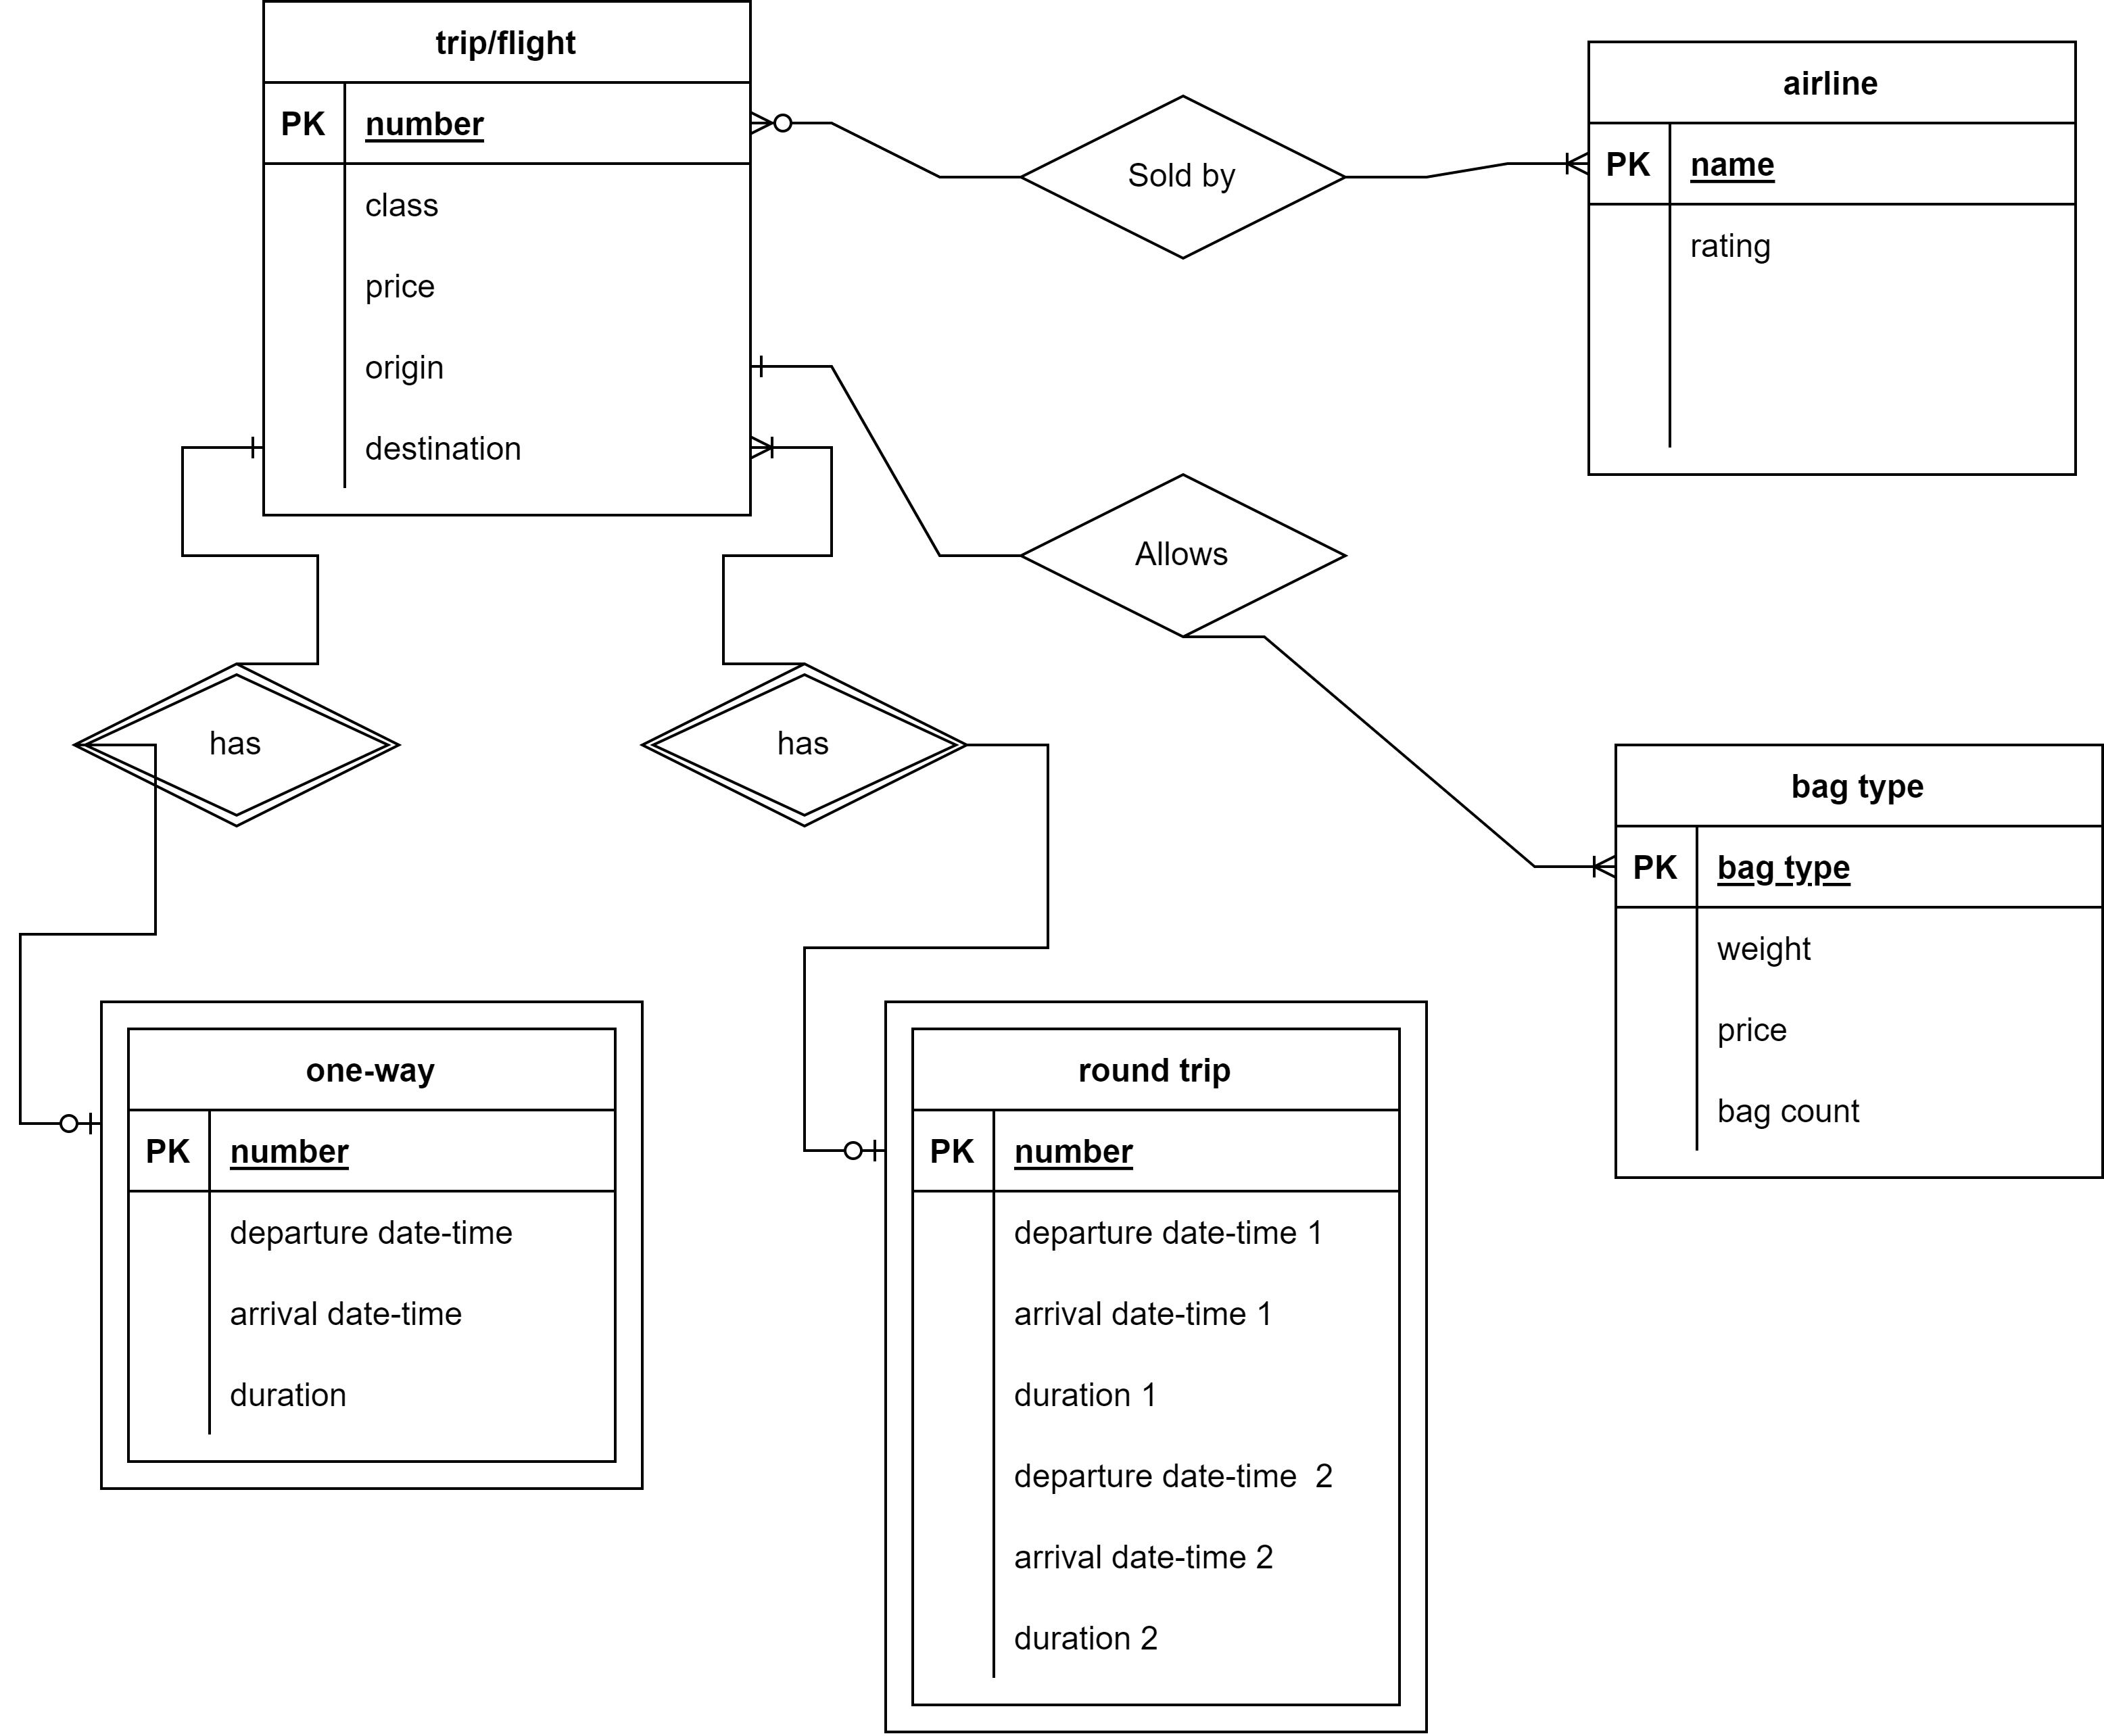entity: (264, 0, 758, 524), (1587, 37, 2080, 482), (1613, 741, 2104, 1186)
relationship: (1021, 482, 1346, 644), (1026, 98, 1344, 262)
weakentity: (881, 997, 1426, 1736), (98, 999, 645, 1495)
weakrelationship: (636, 664, 961, 823), (77, 669, 397, 830)
